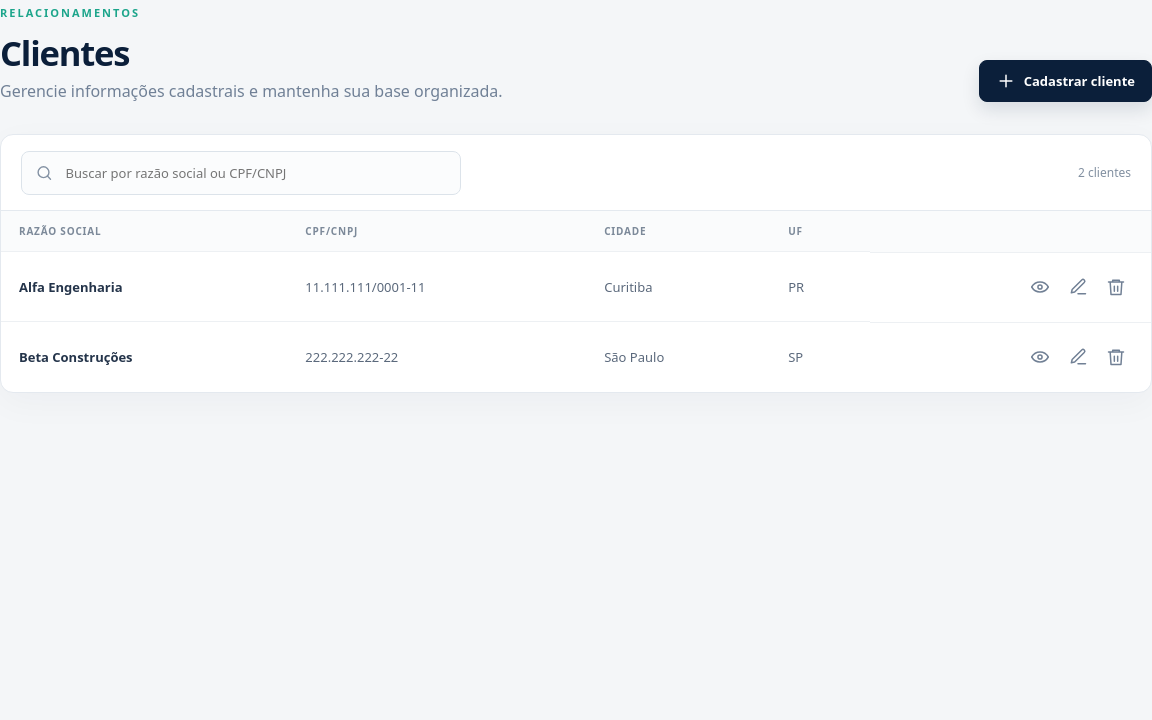
Test case: módulo de clientes › exibe regra de exclusão bloqueada por obras vinculadas
Expected: the text "Alfa Engenharia" is shown, [19,278,123,296]
Click the button named "Excluir Alfa Engenharia" at (1116, 288), box [1098,270,1133,305]
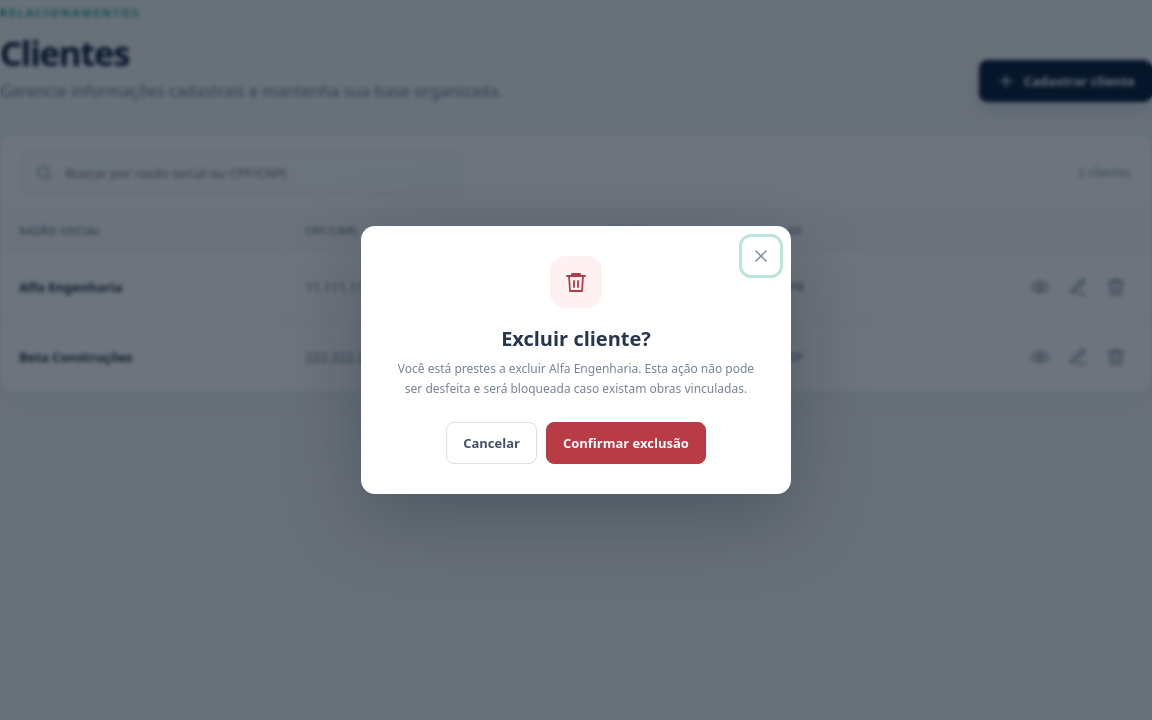
Click the button "Confirmar exclusão" at (626, 443), box [546,422,706,464]
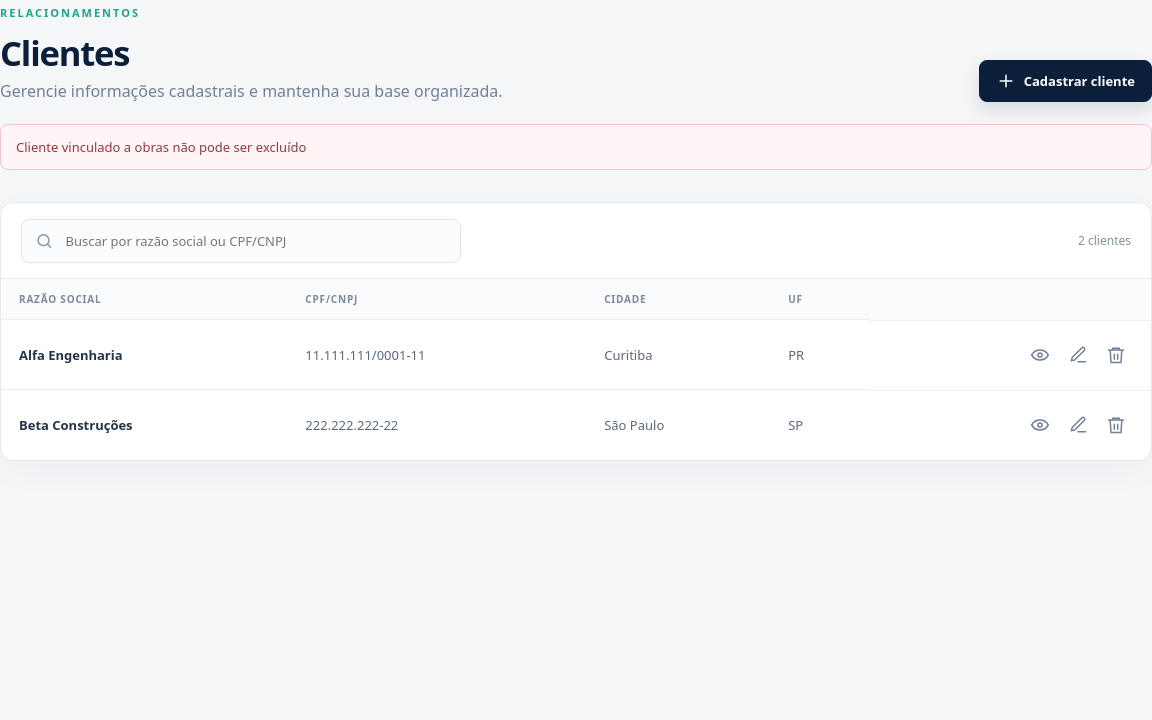
Result: the message reads "Cliente vinculado a obras não pode ser excluído" at [16,138,306,156]
